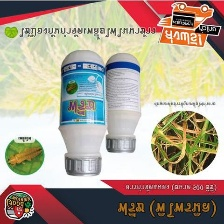insecticide: (56, 46, 108, 180), (99, 50, 143, 156)
